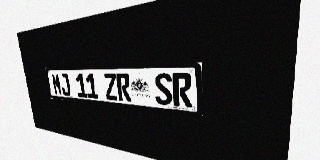1: (85, 73, 98, 99), (75, 73, 88, 98)
J: (59, 74, 71, 96)
M: (51, 74, 62, 95)
R: (172, 73, 192, 108), (116, 73, 132, 102)
S: (154, 73, 173, 106)
Z: (103, 73, 118, 101)
